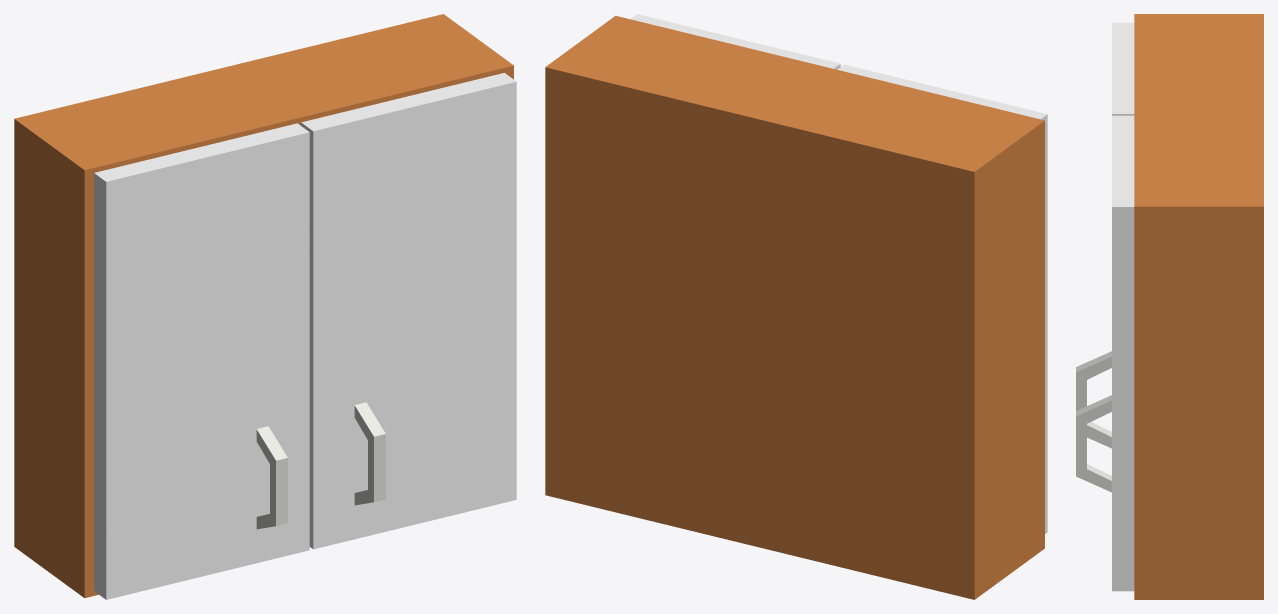
Rendered from Cupboard_1_3.fbx.
3 renders of one model, left to right at view 1: azimuth 30°, elevation 25°; view 2: azimuth 150°, elevation 25°; view 3: azimuth 270°, elevation 25°, orthographic. The views are drawn at different scales.
Parts seen in each view (by area): view 1: polySurface1494; view 2: polySurface1494; view 3: polySurface1494.
Boxes of the visible parts, x1,y1,x2,y2 form: polySurface1494: (14, 14, 516, 599); polySurface1494: (545, 14, 1047, 599); polySurface1494: (1076, 14, 1263, 599).
Bounding box in the file's own units: 1.23 × 1.17 × 0.5055.
Materials: 1 (1 with a texture image).
